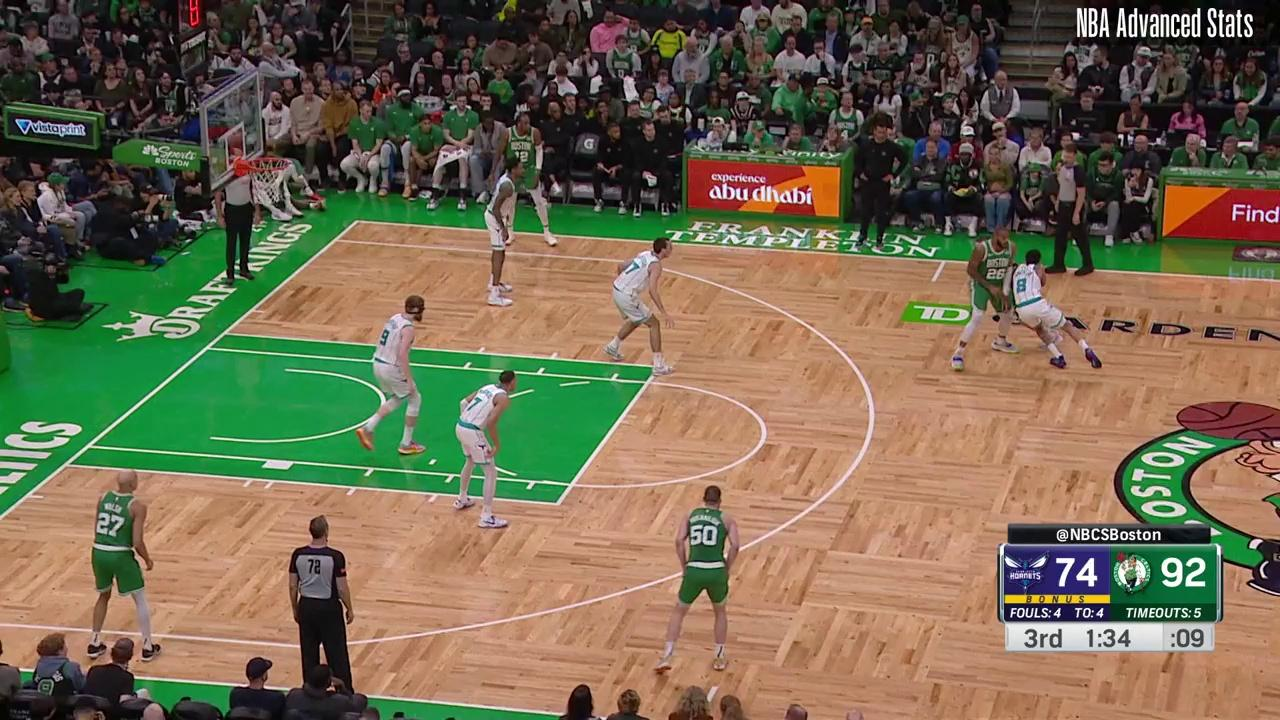3_dx: (328, 233, 342, 246)
b_dx: (350, 214, 365, 228)
free_asx: (550, 498, 566, 512)
free_bdx: (216, 327, 232, 341)
free_bsx: (58, 457, 74, 471)
mid_dx: (929, 278, 938, 285)
mid_sx: (709, 681, 720, 691)
referee: (285, 515, 356, 697), (1047, 149, 1098, 277), (215, 151, 259, 284)
team: (649, 484, 739, 677), (85, 469, 160, 662), (957, 226, 1022, 365), (490, 115, 558, 245)
team1: (358, 295, 431, 455), (1011, 249, 1103, 371), (600, 236, 679, 378), (450, 371, 517, 529), (482, 154, 525, 307)
timer: (1082, 622, 1141, 654)
